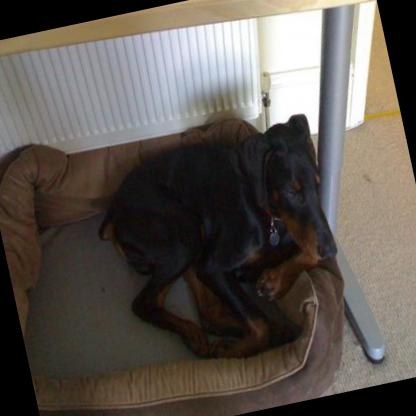Doberman: (78, 106, 356, 382)
